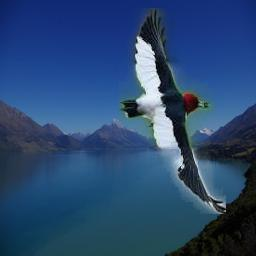Woodpecker: (120, 8, 227, 214)
